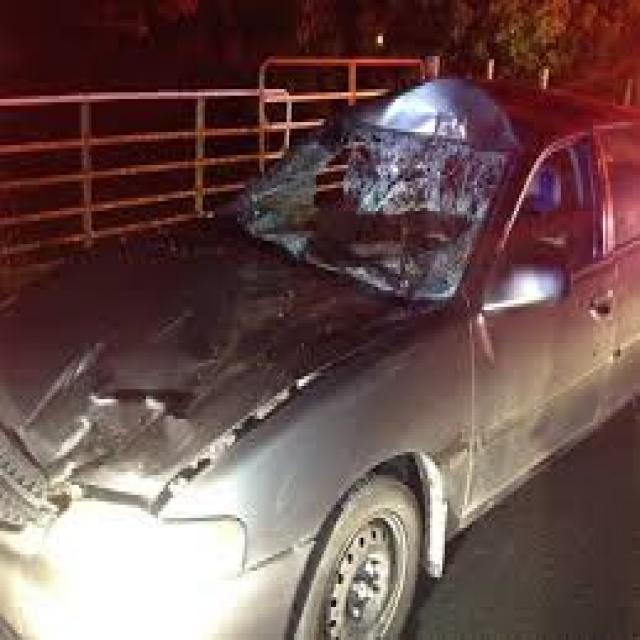moderate: (0, 72, 600, 541)
